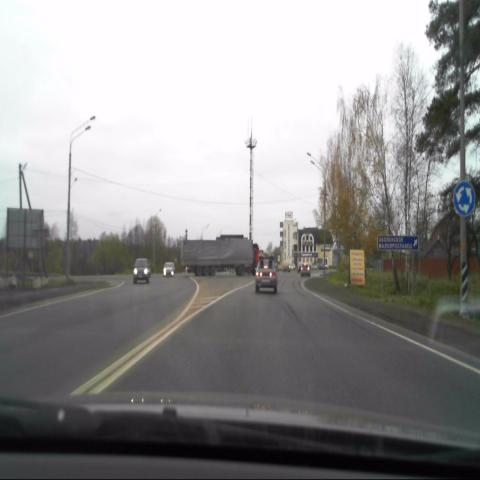4_3: (451, 178, 476, 218)
